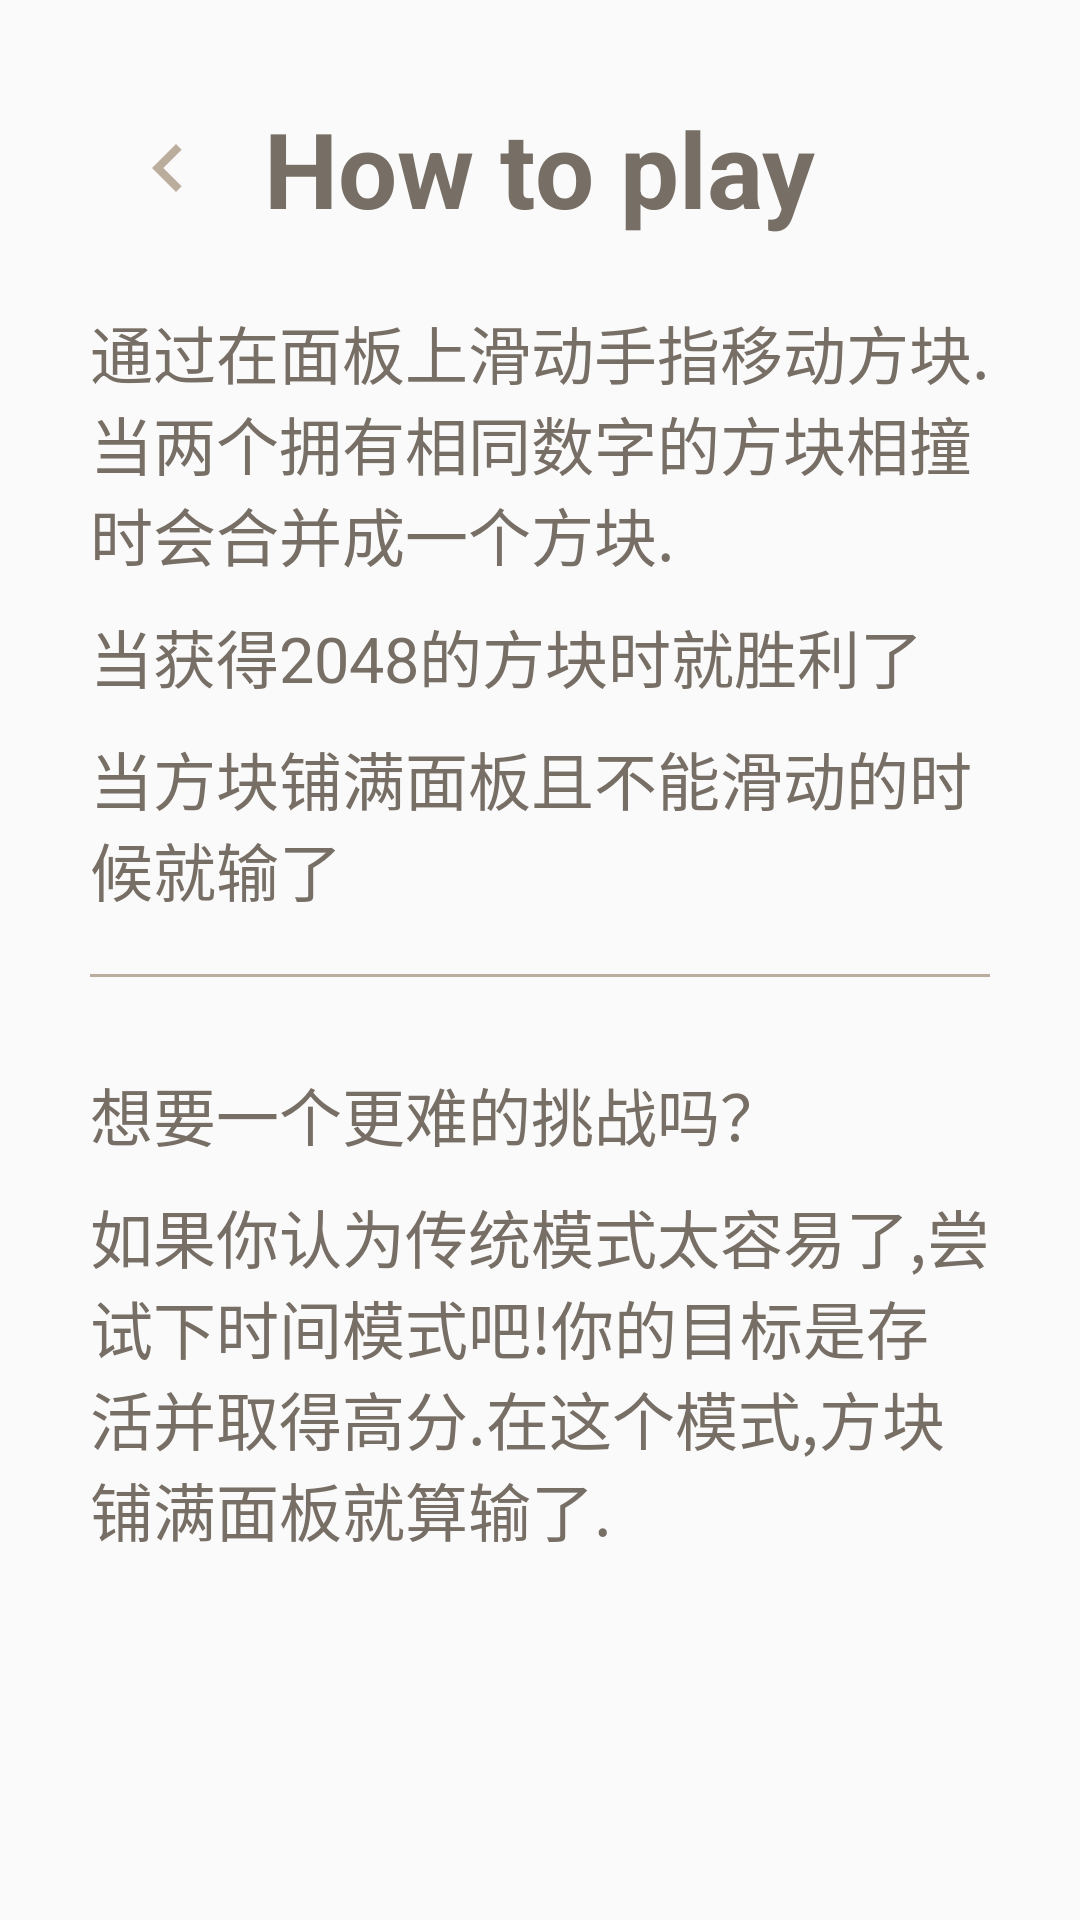

Icon bounding boxes for this 1080x1920 phone screenshot, format bbox=[x1, y1, x2, y2]:
chevron left: bbox=[152, 144, 182, 192]
